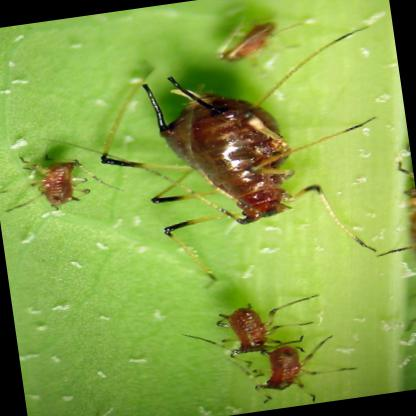uroleucon compositae: (100, 85, 372, 253), (201, 295, 318, 354)
